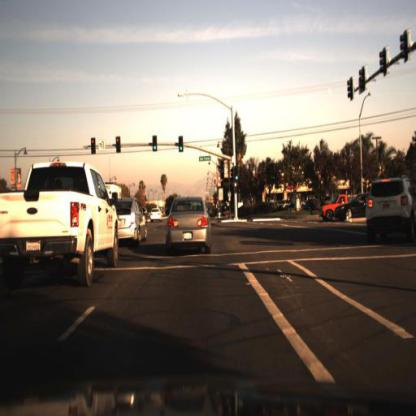car: (2, 149, 120, 336), (159, 190, 222, 265), (113, 198, 147, 248), (334, 186, 370, 226), (11, 188, 40, 229), (317, 192, 351, 224), (320, 196, 343, 229), (149, 204, 167, 234)
trafficLight: (113, 131, 121, 159), (89, 138, 97, 159), (152, 133, 159, 153)
trafficLight-Green: (176, 134, 190, 165), (234, 169, 242, 195), (151, 131, 159, 155), (233, 164, 241, 186)
trafficLight-Red: (178, 135, 186, 156)
trafficLight-RedLeft: (87, 133, 97, 159)
